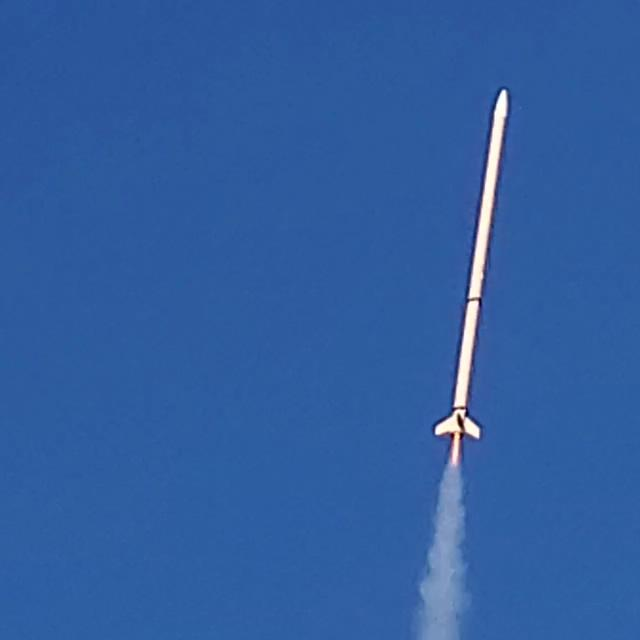rocket: (433, 89, 510, 464)
